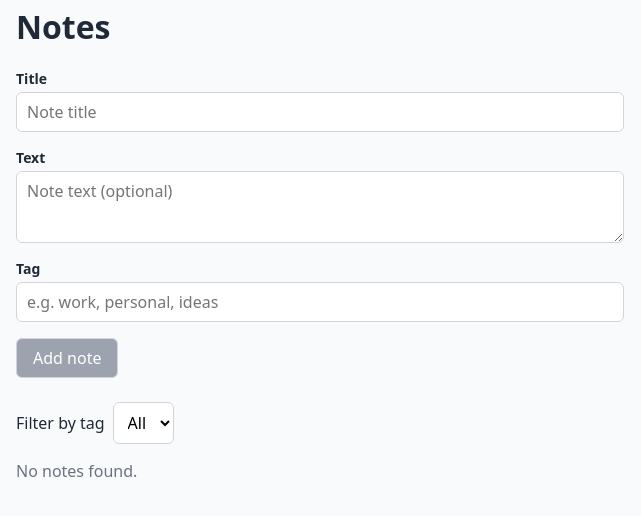
Notes with tags UI › shows validation messages when required fields are left empty
Expected: the text "No notes found." is shown, x1=16 y1=460 x2=137 y2=482
Click the field labelled "Title" at (320, 112), box x1=16 y1=92 x2=624 y2=132
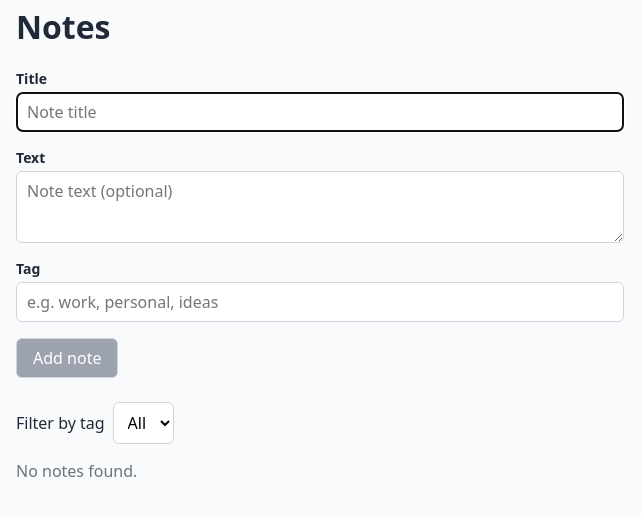
Press Tab
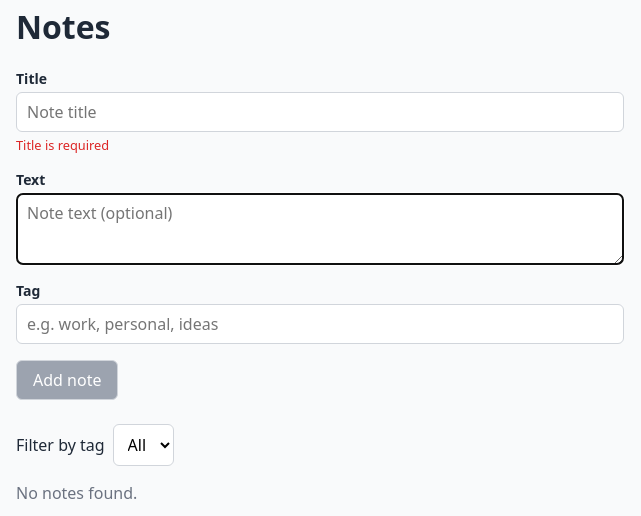
Expected: the message reads "Title is required", x1=16 y1=136 x2=109 y2=154
